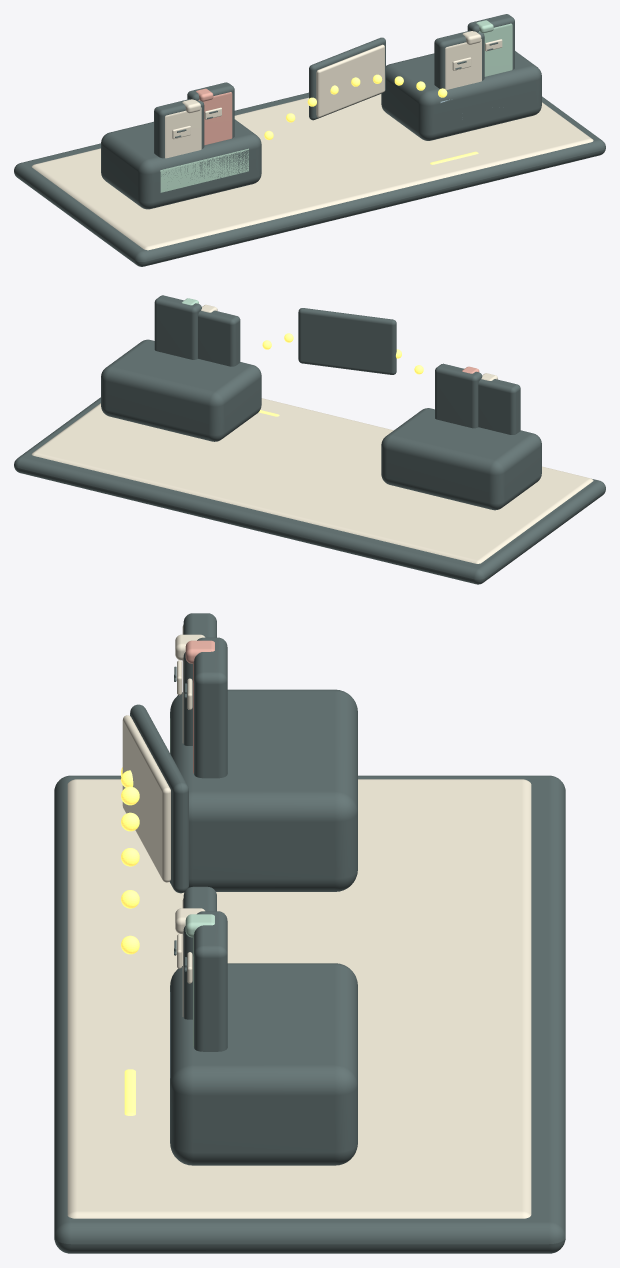
Rendered from handoff-trays.glb.
3 views of the same model, one above another, from view 1: azimuth 30°, elevation 25°; view 2: azimuth 150°, elevation 25°; view 3: azimuth 270°, elevation 25° (orthographic). The views are drawn at different scales.
Parts seen in each view (by area): view 1: handoff slab, handoff slab outline, handoff right tray outline, handoff left tray outline, handoff flying note, handoff left tray, handoff left card A folder, handoff right card A folder, handoff left card B folder, handoff right card B folder, handoff flying note outline, handoff left card A outline (+3 smaller); view 2: handoff slab, handoff slab outline, handoff right tray outline, handoff left tray outline, handoff flying note outline, handoff left card B outline, handoff right card B outline, handoff right card A outline, handoff left card A outline; view 3: handoff slab, handoff slab outline, handoff right tray outline, handoff left tray outline, handoff flying note, handoff left card B outline, handoff right card B outline, handoff flying note outline, handoff right card A outline, handoff left card A outline.
Boxes of the visible parts, box(x1,y1,x2,y2) form: handoff slab: box(31, 94, 593, 250); handoff slab outline: box(14, 92, 605, 266); handoff right tray outline: box(381, 51, 541, 140); handoff left tray outline: box(101, 119, 261, 209); handoff flying note: box(316, 44, 384, 117); handoff left tray: box(160, 148, 248, 192); handoff left card A folder: box(165, 107, 201, 158); handoff right card A folder: box(445, 39, 481, 89); handoff left card B folder: box(198, 92, 232, 145); handoff right card B folder: box(479, 23, 512, 76); handoff flying note outline: box(309, 37, 385, 120); handoff left card A outline: box(154, 99, 204, 158); handoff slab: box(31, 398, 593, 563); handoff slab outline: box(14, 397, 605, 584); handoff right tray outline: box(101, 339, 261, 441); handoff left tray outline: box(381, 408, 541, 510); handoff flying note outline: box(298, 308, 396, 374); handoff left card B outline: box(435, 363, 482, 428); handoff right card B outline: box(154, 295, 201, 359); handoff right card A outline: box(198, 310, 240, 366); handoff left card A outline: box(478, 379, 520, 434); handoff slab: box(67, 779, 531, 1218); handoff slab outline: box(54, 775, 565, 1253); handoff right tray outline: box(170, 963, 357, 1165); handoff left tray outline: box(170, 689, 357, 891); handoff flying note: box(122, 715, 170, 882); handoff left card B outline: box(194, 637, 227, 778); handoff right card B outline: box(194, 911, 227, 1051); handoff flying note outline: box(130, 704, 188, 893); handoff right card A outline: box(183, 886, 216, 1019); handoff left card A outline: box(183, 613, 216, 745).
Size of the model in its own units: 5.2 by 1.51 by 2.45.
